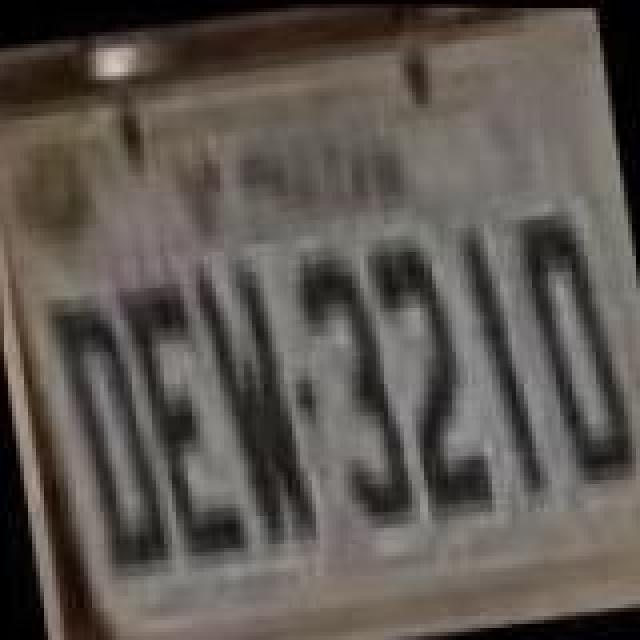1: (456, 212, 556, 508)
2: (362, 228, 498, 528)
3: (286, 238, 422, 534)
D: (42, 286, 174, 582)
E: (110, 268, 250, 568)
O: (512, 198, 640, 486)
W: (188, 248, 328, 556)
